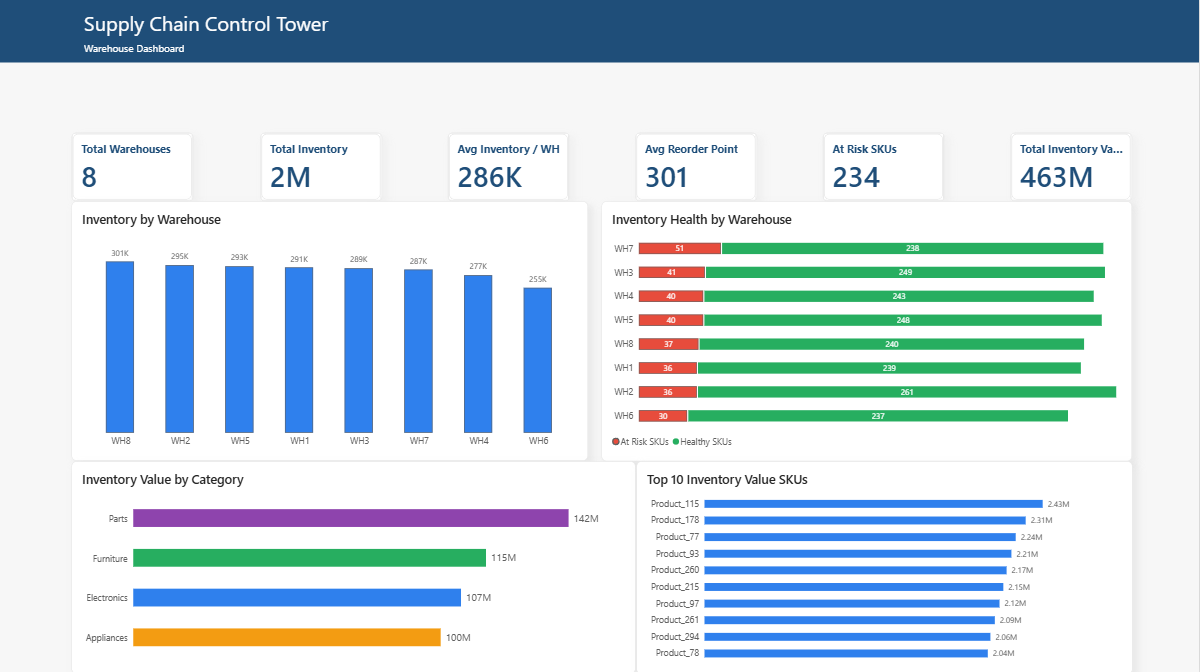

The dashboard page shown, as its layout file describes it:
{"tool":"powerbi","page":{"name":"Warehouse Dashboard","canvas":[1920,1080],"ordinal":6},"visuals":[{"type":"shape","title":"Supply Chain Control Tower","box":[0,0,1919.6,100],"z":0},{"type":"textbox","box":[116,0,473,75.5],"z":1000},{"type":"textbox","box":[116,49.7,622.1,49.7],"z":2000},{"type":"cardVisual","title":"Total Orders","fields":{"Data":["Measures (2).Total Warehouses"]},"box":[116.9,211.7,195,110],"z":3000},{"type":"cardVisual","title":"Total Orders","fields":{"Data":["Measures (2).Total Inventory"]},"box":[417.1,211.7,195,110],"z":4000},{"type":"cardVisual","title":"Total Orders","fields":{"Data":["Measures (2).Avg Inventory / Warehouse"]},"box":[717.2,211.7,195,110],"z":5000},{"type":"cardVisual","title":"Total Orders","fields":{"Data":["Measures (2).Average Reorder Point"]},"box":[1017.4,211.7,195,110],"z":6000},{"type":"cardVisual","title":"Total Orders","fields":{"Data":["Measures (2).At Risk SKUs"]},"box":[1317.6,211.7,195,110],"z":7000},{"type":"cardVisual","title":"Total Orders","fields":{"Data":["Measures (2).Total Inventory Value"]},"box":[1617.8,211.7,195,110],"z":8000},{"type":"clusteredColumnChart","title":"Inventory by Warehouse","fields":{"Category":["Warehouse.Warehouse_ID"],"Y":["Measures (2).Total Inventory"]},"box":[116.9,322.5,826.7,415.5],"z":9000},{"type":"barChart","title":"Inventory Health by Warehouse","fields":{"Category":["Warehouse.Warehouse_ID"],"Y":["Measures (2).At Risk SKUs","Measures (2).Healthy SKUs"]},"box":[964.4,322.1,848.5,416],"z":10000},{"type":"barChart","title":"Inventory Value by Category","fields":{"Category":["Product.Category"],"Y":["Measures (2).Total Inventory Value"]},"box":[116.9,738,902.4,341.9],"z":11000},{"type":"barChart","title":"Top 10 Inventory Value SKUs","fields":{"Category":["Product.Product_Name"],"Y":["Measures (2).Total Inventory Value"]},"box":[1019.6,738,793.3,342.3],"z":12000}]}

Visuals, with their boxes in screenshot pixels (x1, y1, x2, y2), scaled from the page's 1920x1080 canvas onto the 1200x672 screenshot:
"Supply Chain Control Tower" shape: BBox(0, 0, 1199, 62)
textbox: BBox(72, 0, 368, 47)
textbox: BBox(72, 31, 461, 62)
"Total Orders" cardVisual: BBox(73, 132, 195, 200)
"Total Orders" cardVisual: BBox(261, 132, 383, 200)
"Total Orders" cardVisual: BBox(448, 132, 570, 200)
"Total Orders" cardVisual: BBox(636, 132, 758, 200)
"Total Orders" cardVisual: BBox(824, 132, 945, 200)
"Total Orders" cardVisual: BBox(1011, 132, 1133, 200)
"Inventory by Warehouse" clusteredColumnChart: BBox(73, 201, 590, 459)
"Inventory Health by Warehouse" barChart: BBox(603, 200, 1133, 459)
"Inventory Value by Category" barChart: BBox(73, 459, 637, 671)
"Top 10 Inventory Value SKUs" barChart: BBox(637, 459, 1133, 671)
